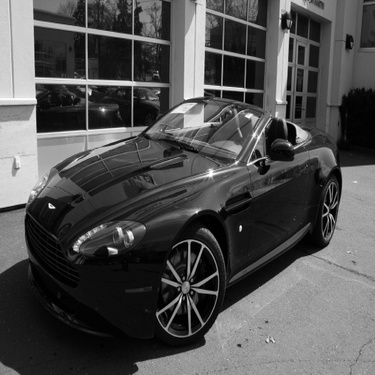car: (20, 93, 346, 350)
